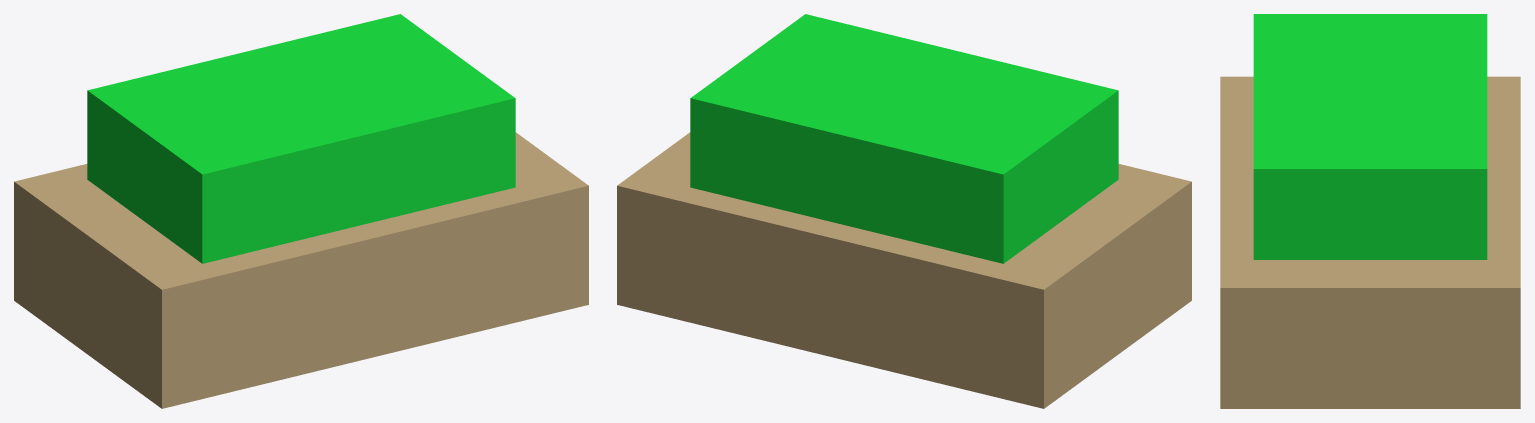
The model's file is 067_L101_LED4.fbx.
3 renders of one model, left to right at view 1: azimuth 30°, elevation 25°; view 2: azimuth 150°, elevation 25°; view 3: azimuth 270°, elevation 25°, orthographic.
Visible parts, largest first — view 1: LED_Ceramic_Base, LED_Lens; view 2: LED_Ceramic_Base, LED_Lens; view 3: LED_Lens, LED_Ceramic_Base.
Boxes of the visible parts, x1,y1,x2,y2 form: LED_Ceramic_Base: (14,132,588,408); LED_Lens: (87,14,515,263); LED_Ceramic_Base: (617,132,1191,408); LED_Lens: (690,14,1118,263); LED_Lens: (1253,14,1487,259); LED_Ceramic_Base: (1220,76,1520,408).
Bounding box in the file's own units: 0.3 × 0.14 × 0.18.
